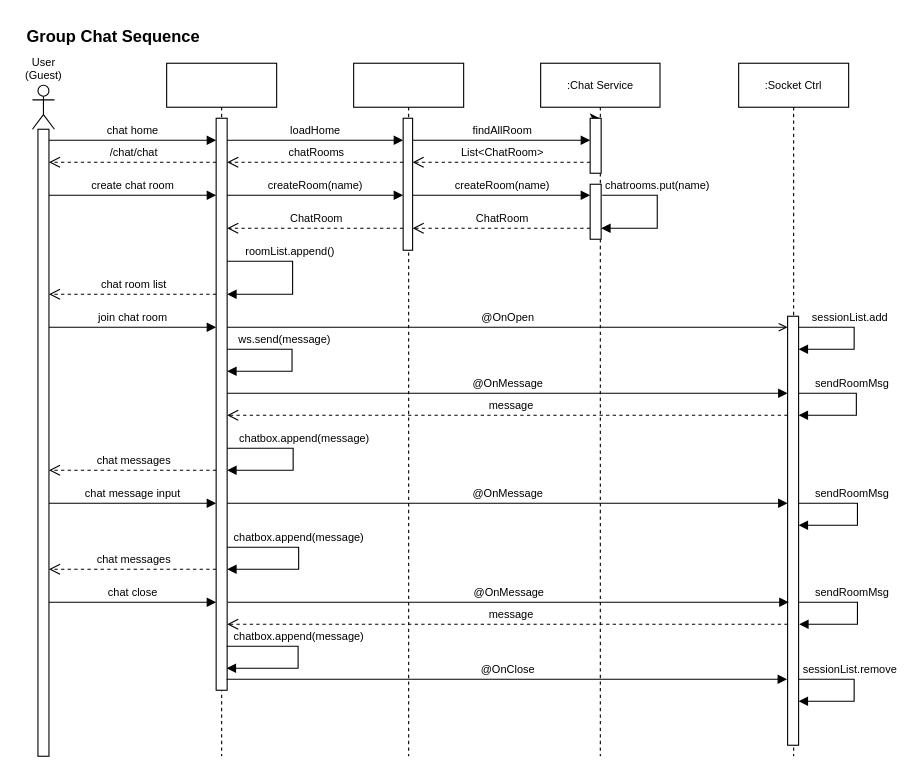
The diagram is 915 pixels wide and 776 high, and some of its shapes have lost their labels. Here are the shapes that lost their labels. From the top down, the box of each, then its label:
(166, 62, 277, 756): :Interface
(353, 62, 464, 756): :Chat Ctrl
